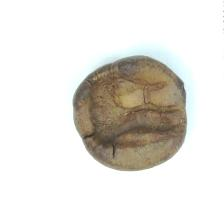NG: (84, 68, 179, 156)
